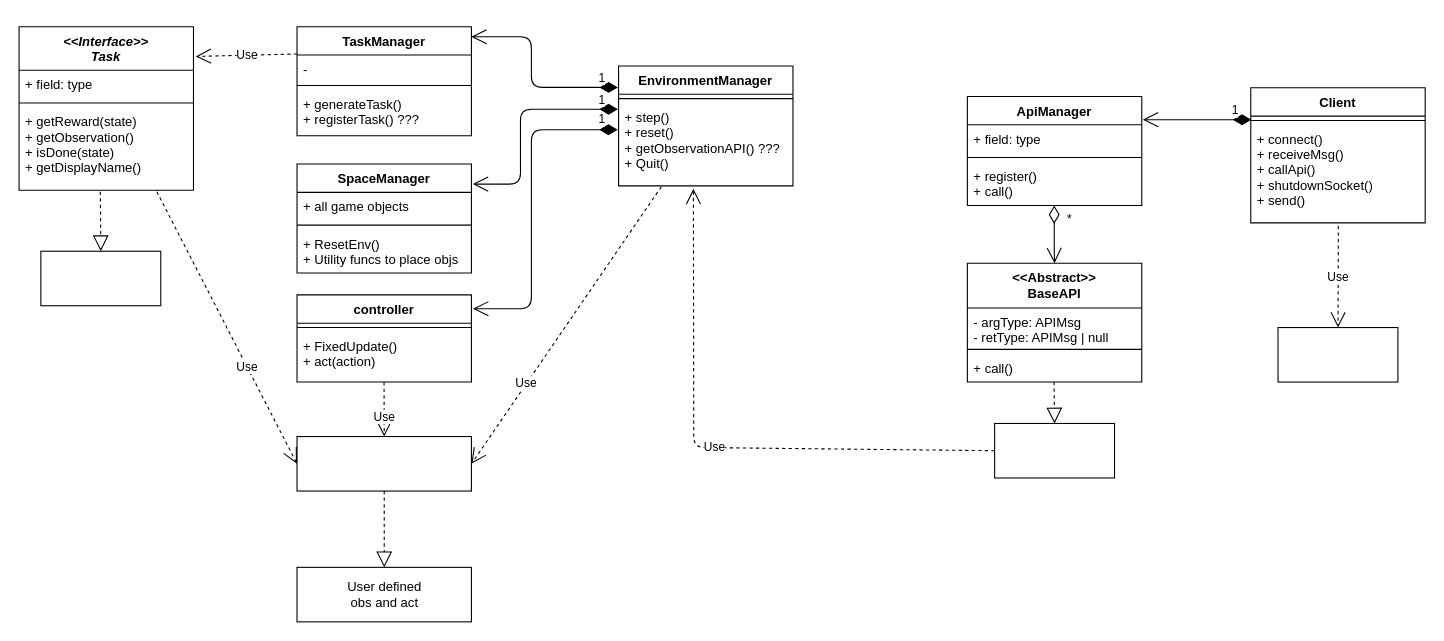
The diagram is 1444 pixels wide and 641 high, and some of its shapes have lost their labels. The centre of each missing label's shape, as x and y in pixels:
APIMessages: [1337,354]
Base obs / act dataclasses: [383,463]
User defined APIs: [1054,450]
User defined tasks: [100,278]
